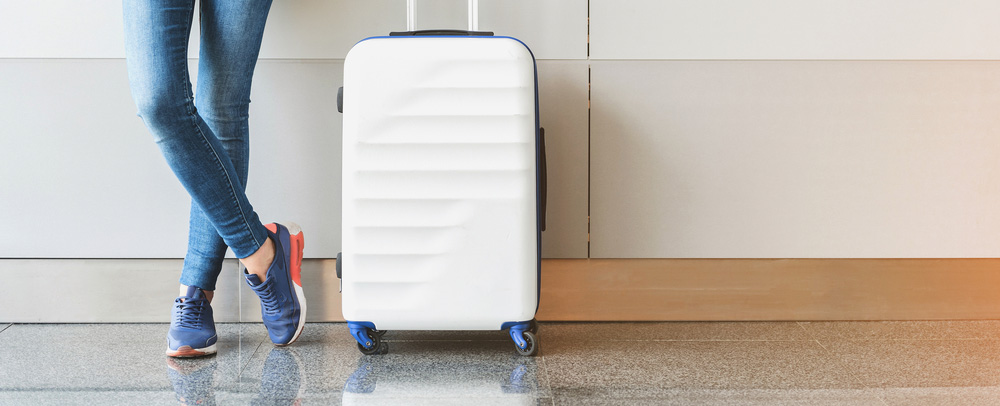luggage: (329, 2, 555, 361)
